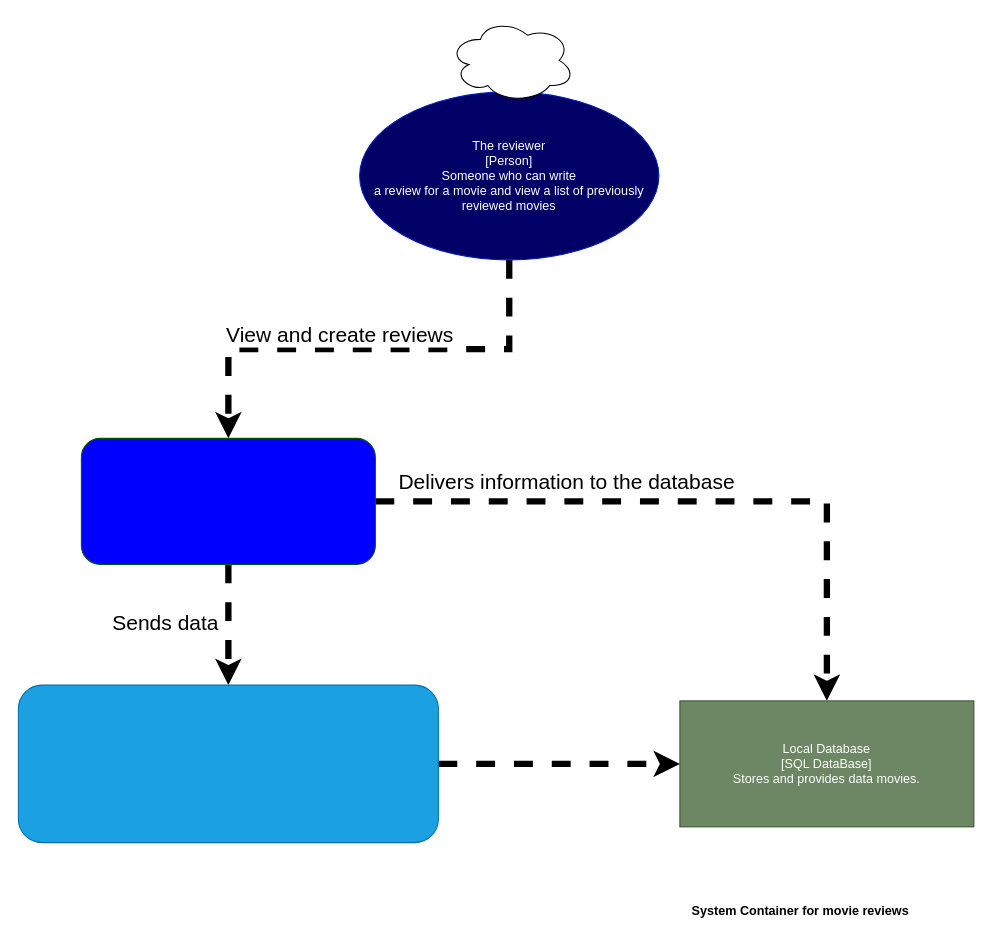
Image size: 992x940. Some labels were removed from this diagram. The centre of each missing label's shape, as x and y in pixels:
API Application [Container MVC] Provides the movie reviews controllers: the point at 227,763
Web Application [Container MVC. & .NET] Delivers static content: the point at 227,500
